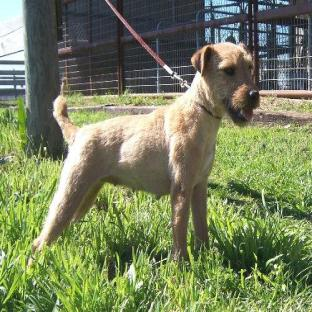Animal: (32, 42, 259, 256)
